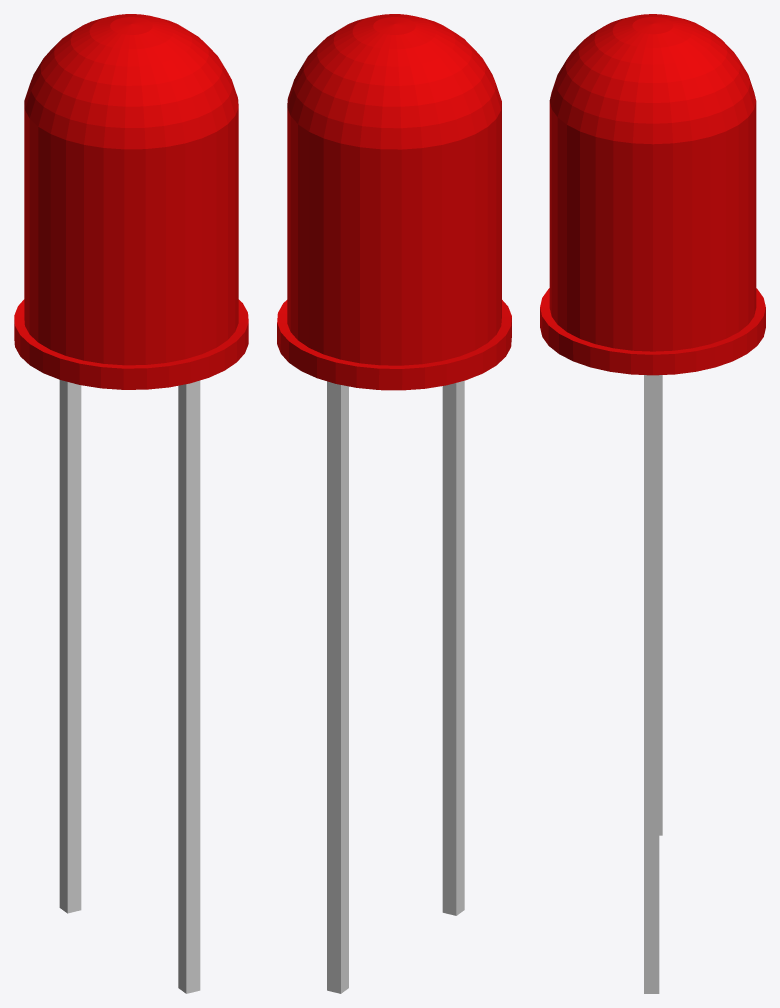
File: LED.glb
The picture shows the model from 3 angles, left to right: view 1: azimuth 30°, elevation 25°; view 2: azimuth 150°, elevation 25°; view 3: azimuth 270°, elevation 25°; orthographic projection. The views are drawn at different scales.
Parts seen in each view (by area): view 1: parte superior, pataccorta, patalarga; view 2: parte superior, pataccorta, patalarga; view 3: parte superior, pataccorta, patalarga.
Part boxes in pixels (box(x1,y1,x2,y2)): parte superior: box(14, 14, 248, 389); pataccorta: box(178, 380, 200, 993); patalarga: box(59, 380, 81, 913); parte superior: box(277, 14, 511, 390); pataccorta: box(327, 381, 348, 993); patalarga: box(442, 380, 464, 915); parte superior: box(540, 14, 765, 375); pataccorta: box(644, 375, 659, 993); patalarga: box(659, 375, 662, 835).
Bounding box in the file's own units: 2.15 × 9.85 × 2.15.
